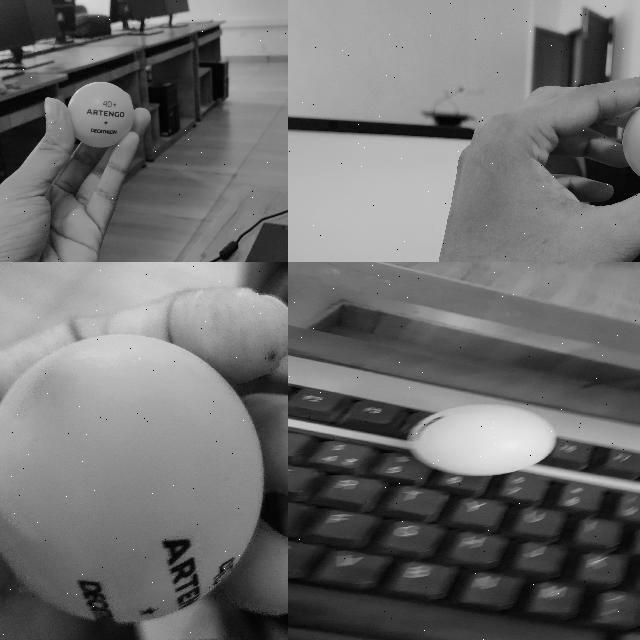ping-pong-ball: (0, 332, 262, 622), (410, 406, 553, 472), (69, 82, 133, 146), (621, 97, 639, 184)
